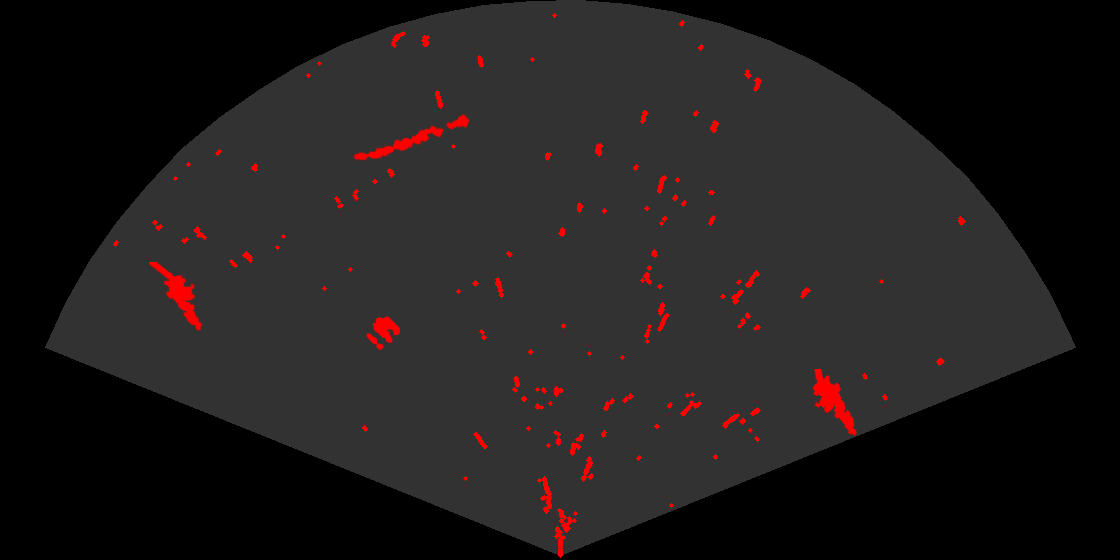ball: (365, 315, 402, 352)
chain: (352, 112, 472, 162)
frogman: (149, 262, 204, 332), (811, 369, 858, 438)
